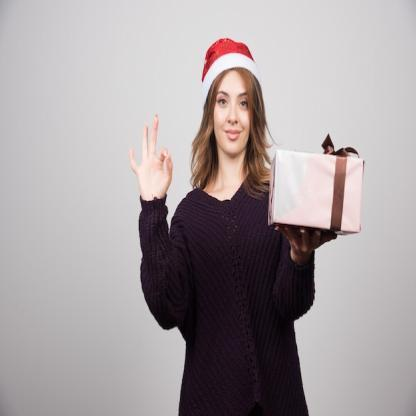ok: (126, 110, 176, 204)
